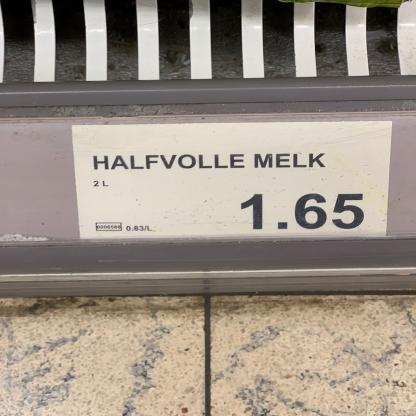prtg: (72, 122, 394, 240)
